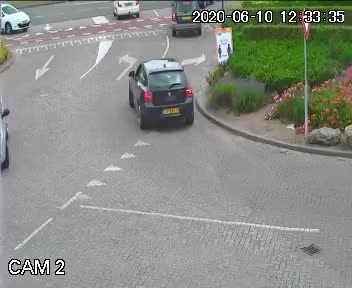car: (121, 59, 197, 136), (164, 0, 206, 39), (0, 0, 37, 35), (107, 0, 136, 21)
